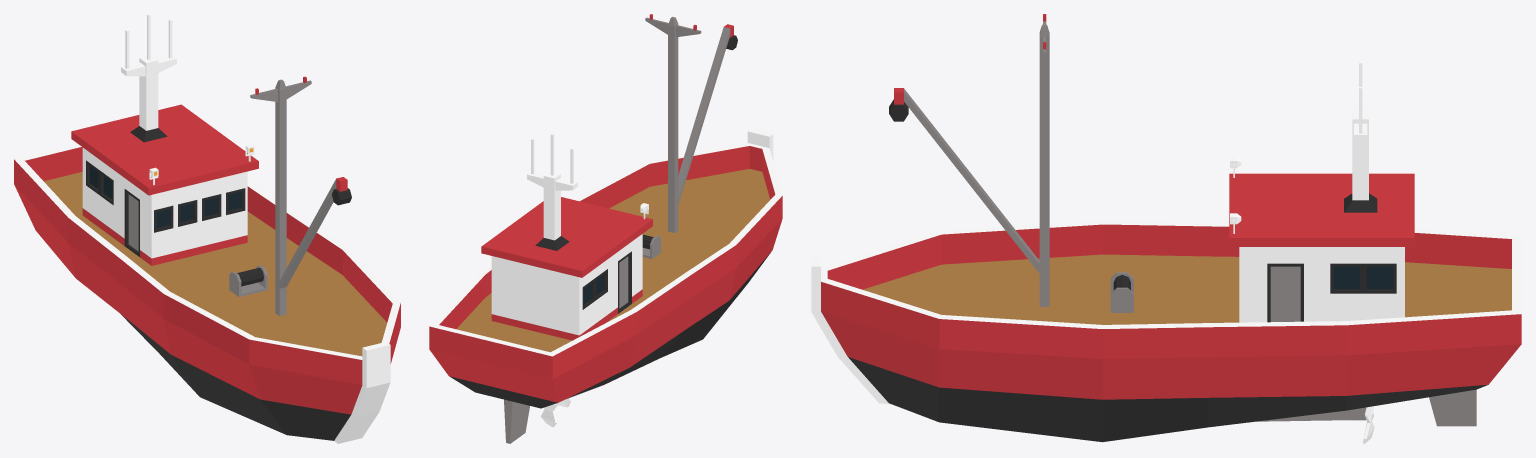
The model's file is boat-fishing.glb.
3 views of the same model, side by side, from view 1: azimuth 30°, elevation 25°; view 2: azimuth 150°, elevation 25°; view 3: azimuth 270°, elevation 25° (orthographic). The views are drawn at different scales.
Visible parts, largest first — view 1: boat-fishing; view 2: boat-fishing; view 3: boat-fishing.
Boxes of the visible parts, <box> form: boat-fishing: <box>14,14,400,443</box>; boat-fishing: <box>429,14,782,443</box>; boat-fishing: <box>811,14,1521,443</box>.
Bounding box in the file's own units: 7.78 × 13.84 × 21.46.
Materials: 1 (1 with a texture image).
